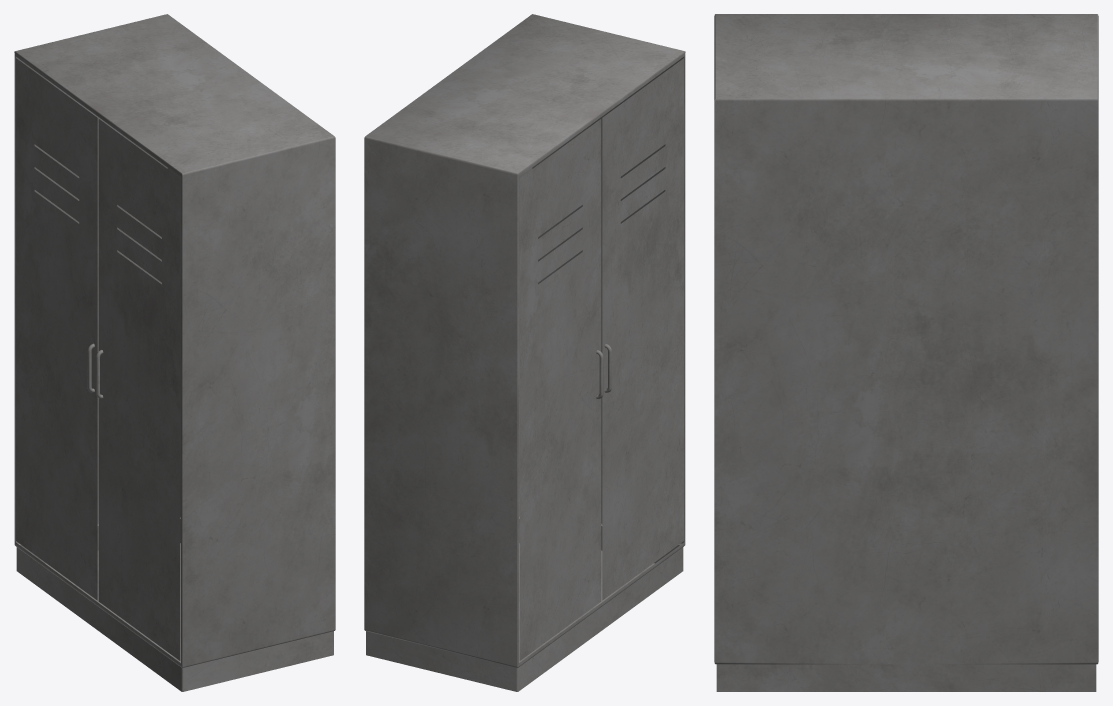
The model's file is cabinet.obj.
3 renders of one model, left to right at view 1: azimuth 30°, elevation 25°; view 2: azimuth 150°, elevation 25°; view 3: azimuth 270°, elevation 25°, orthographic. The views are drawn at different scales.
Visible parts, largest first — view 1: Cube.004_Cube.006; view 2: Cube.004_Cube.006; view 3: Cube.004_Cube.006.
Part boxes in pixels (left/top/right/bottom): Cube.004_Cube.006: left=14, top=14, right=335, bottom=691; Cube.004_Cube.006: left=364, top=14, right=685, bottom=691; Cube.004_Cube.006: left=714, top=14, right=1098, bottom=691.
Size of the model in its own units: 0.6418 by 2 by 1.17.
